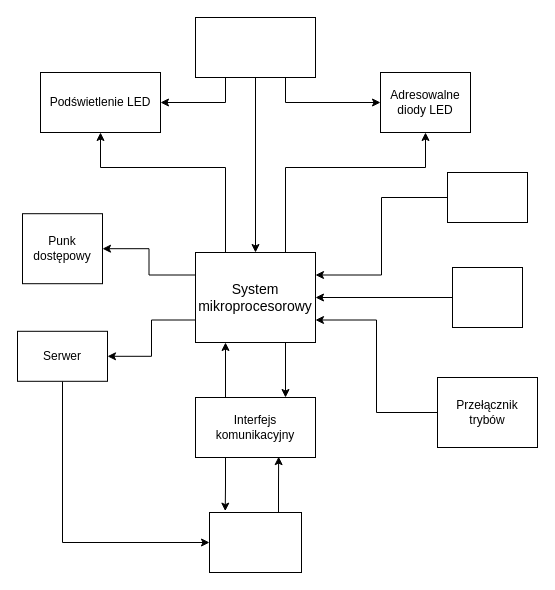
This 555x590 diagram has some shape labels left out. Each missing label, with the centre of its shape:
Enkoder: the point at 487,297
Przyciski: the point at 487,197
Strona internetowa: the point at 255,542
Zasilanie: the point at 255,47
